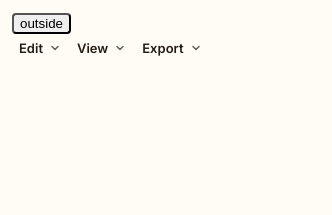
MenuBar structure and roles › opens a menu with role=menu and menuitem rows, naming the shortcut
The image size is (332, 215).
Click the menu item "Edit" at (40, 48), box 12,34 -> 68,62
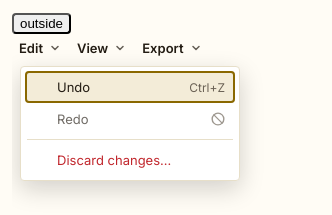
Expected: the text "Ctrl+Z" is shown, 189,80 -> 225,94
